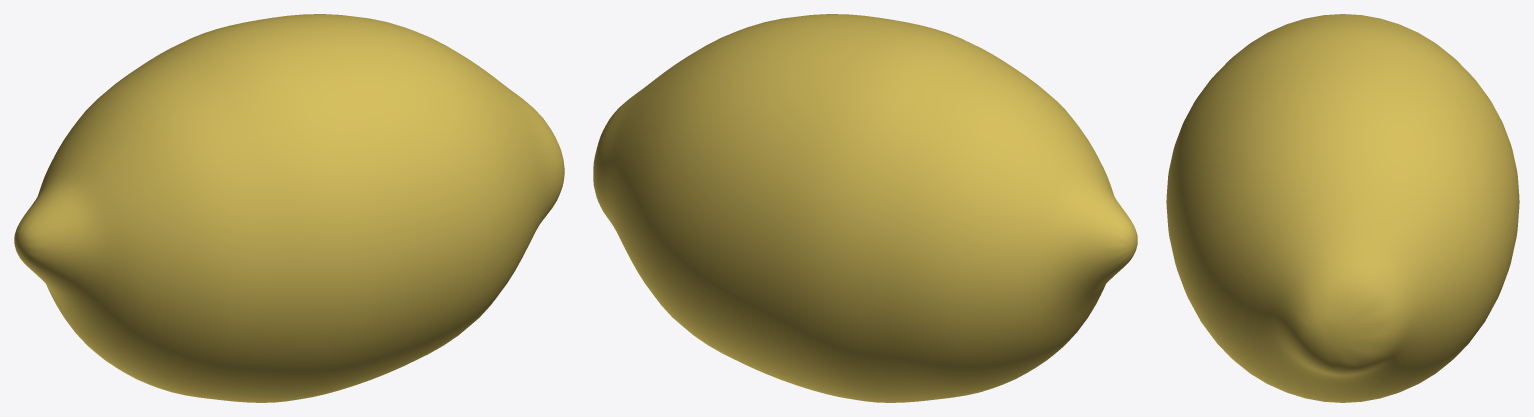
File: PlayerLemon.fbx
3 renders of one model, left to right at view 1: azimuth 30°, elevation 25°; view 2: azimuth 150°, elevation 25°; view 3: azimuth 270°, elevation 25°, orthographic. The views are drawn at different scales.
Visible parts, largest first — view 1: Lemonwhole; view 2: Lemonwhole; view 3: Lemonwhole.
Part boxes in pixels (x1,y1,x2,y2): Lemonwhole: (14,14,564,402); Lemonwhole: (593,14,1137,402); Lemonwhole: (1166,14,1519,402).
Bounding box in the file's own units: 0.1106 × 0.0686 × 0.0686.
